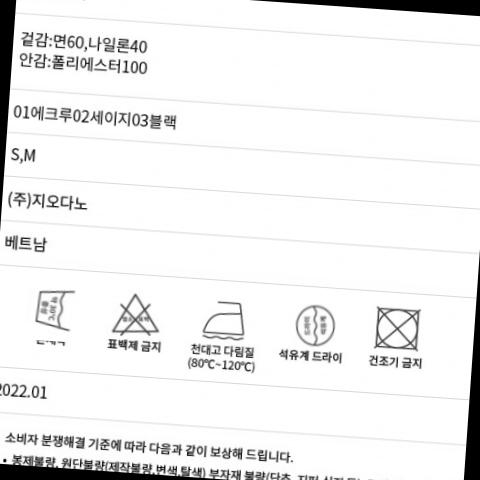30C: (32, 283, 81, 333)
DN_tumble_dry: (368, 304, 426, 352)
dry_clean_petrol_only: (293, 298, 345, 348)
iron: (198, 292, 251, 341)
non_chlorine_bleach: (109, 286, 167, 338)
